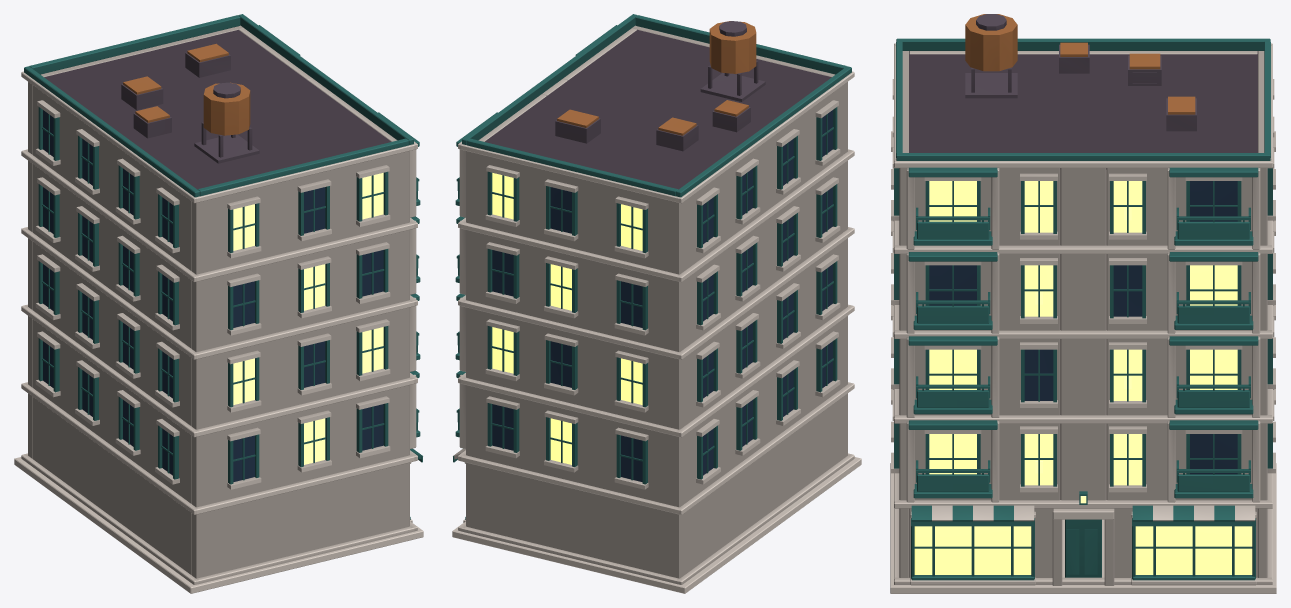
The picture shows the model from 3 angles, left to right: view 1: azimuth 30°, elevation 25°; view 2: azimuth 150°, elevation 25°; view 3: azimuth 270°, elevation 25°; orthographic projection. The views are drawn at different scales.
Parts seen in each view (by area): view 1: body_pal_picketWhite, body_pal_backpackTeal, roof_pal_asphalt, body_pal_blueTrim, body_emi_windowGlow, roof_pal_woodWarm; view 2: body_pal_picketWhite, roof_pal_asphalt, body_pal_backpackTeal, body_pal_blueTrim, body_emi_windowGlow, roof_pal_woodWarm; view 3: body_pal_picketWhite, body_pal_backpackTeal, roof_pal_asphalt, body_emi_windowGlow, body_pal_blueTrim, roof_pal_woodWarm, door_front_pal_backpackTeal.
Part boxes in pixels (x1,y1,x2,y2): body_pal_picketWhite: (14,25,423,593); body_pal_backpackTeal: (24,14,422,519); roof_pal_asphalt: (44,29,391,189); body_pal_blueTrim: (43,110,383,482); body_emi_windowGlow: (233,173,383,464); roof_pal_woodWarm: (123,43,250,135); body_pal_picketWhite: (452,25,861,593); roof_pal_asphalt: (484,21,831,189); body_pal_backpackTeal: (453,14,851,519); body_pal_blueTrim: (492,110,832,482); body_emi_windowGlow: (492,173,642,464); roof_pal_woodWarm: (557,21,756,135); body_pal_picketWhite: (890,43,1276,593); body_pal_backpackTeal: (894,38,1272,580); roof_pal_asphalt: (909,14,1257,169); body_emi_windowGlow: (914,181,1252,574); body_pal_blueTrim: (929,181,1237,474); roof_pal_woodWarm: (965,14,1195,114); door_front_pal_backpackTeal: (1065,519,1101,577).
Size of the model in its own units: 9.97 by 17.76 by 12.6.
